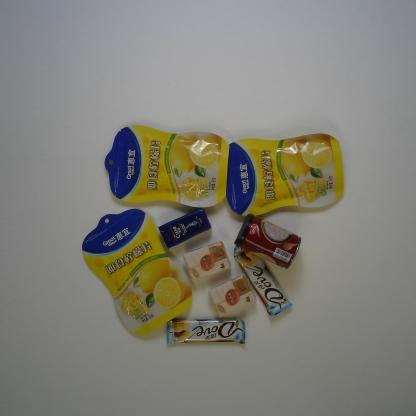Canned Food: (230, 212, 304, 270)
Chocolate: (232, 240, 296, 318), (162, 313, 247, 345)
Dried Fruit: (81, 205, 196, 339), (216, 130, 346, 219), (100, 125, 235, 210)
Personal Hygiene: (156, 208, 212, 250)
Tissue: (181, 237, 235, 284), (207, 272, 256, 320)
